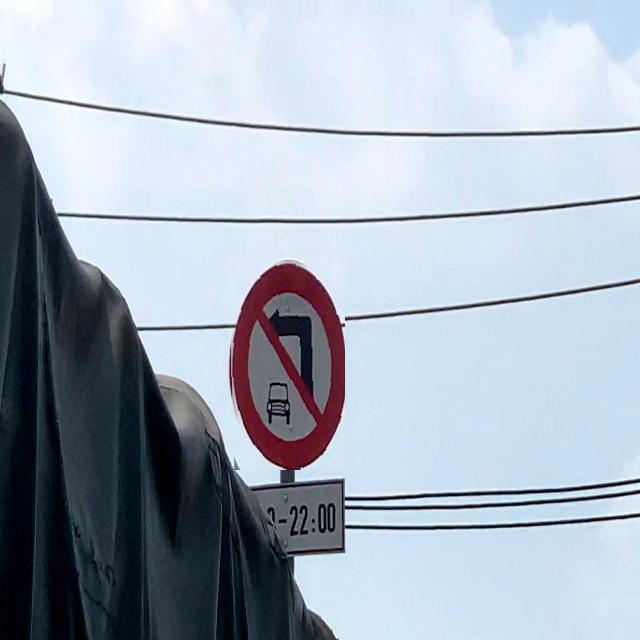P-103c: (228, 258, 345, 470)
